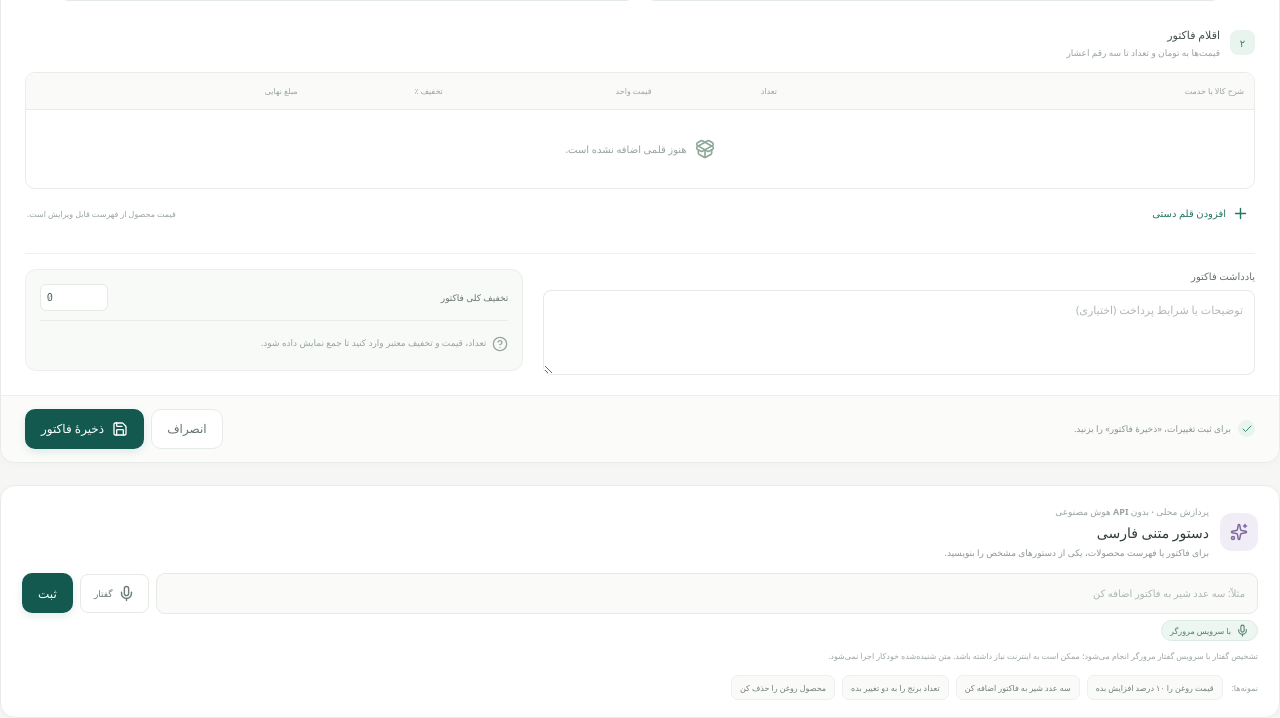
Test: دکمهٔ گفتار: توقف، بازیابی و خطای دستور › عبارت نامشخص را با متن شنیده‌شده برای تکمیل نشان می‌دهد و فاکتور را تغییر نمی‌دهد
(page scrolled)
Click the button "گفتار".
click(114, 593)  # box [80,574,149,613]
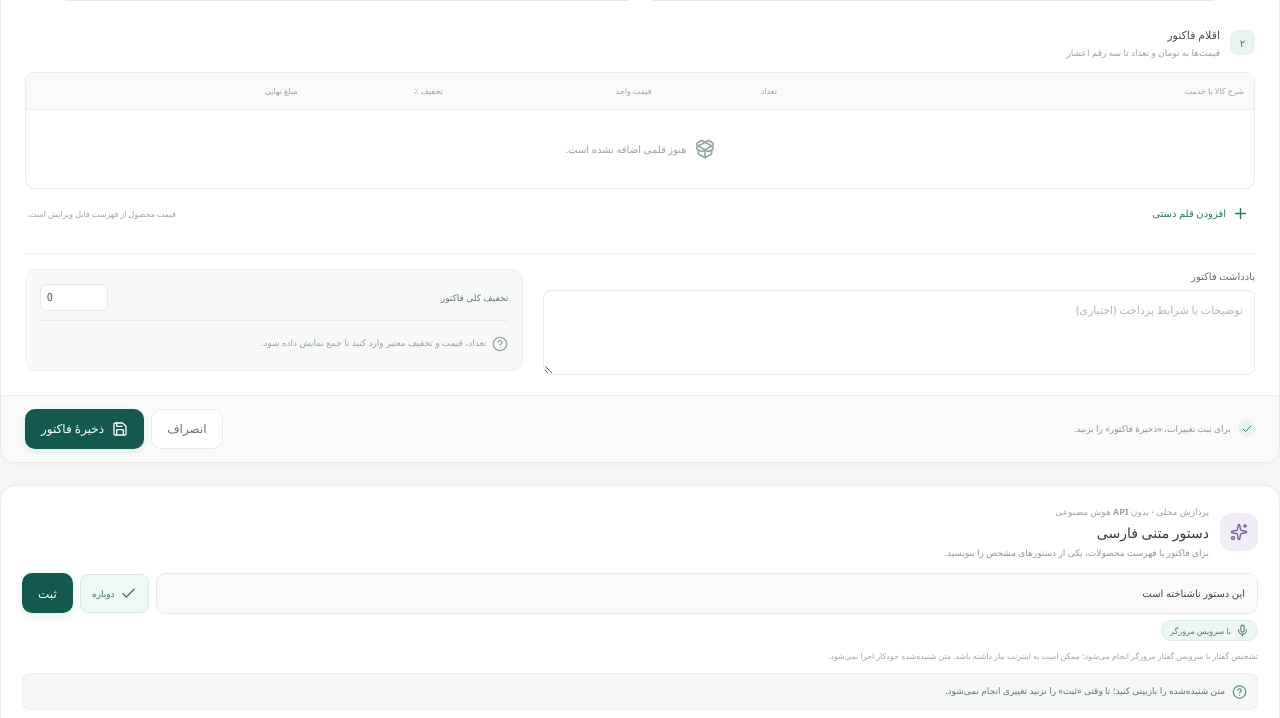
Click the button with class "command-run".
click(47, 593)  # box [22,573,73,613]
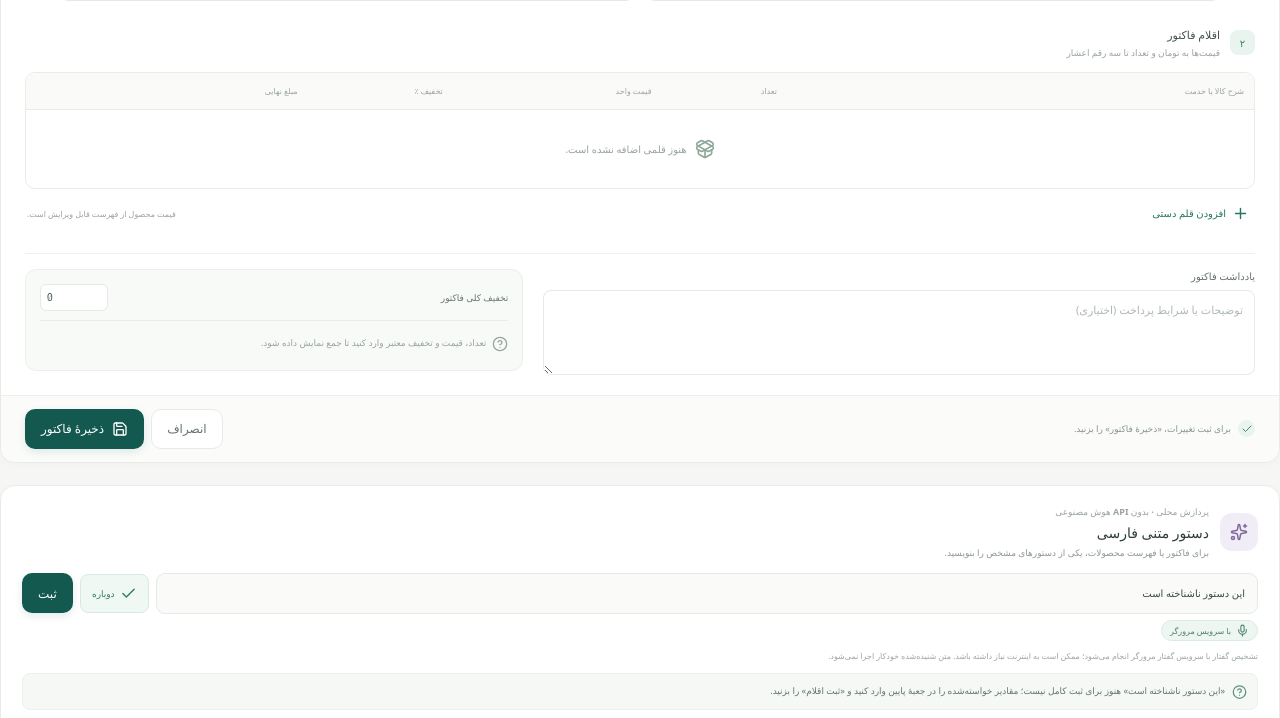
Expected: the field named "نوشتن دستور فارسی" holds "این دستور ناشناخته است", [156,573,1258,614]
Expected: the message shows "این دستور ناشناخته است", [770,684,1225,697]
